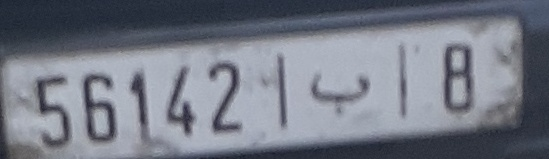1: (125, 62, 156, 148)
2: (206, 54, 248, 141)
4: (163, 63, 202, 140)
5: (32, 71, 71, 148)
6: (79, 70, 119, 145)
8: (432, 34, 497, 120)
b: (304, 62, 377, 119)
